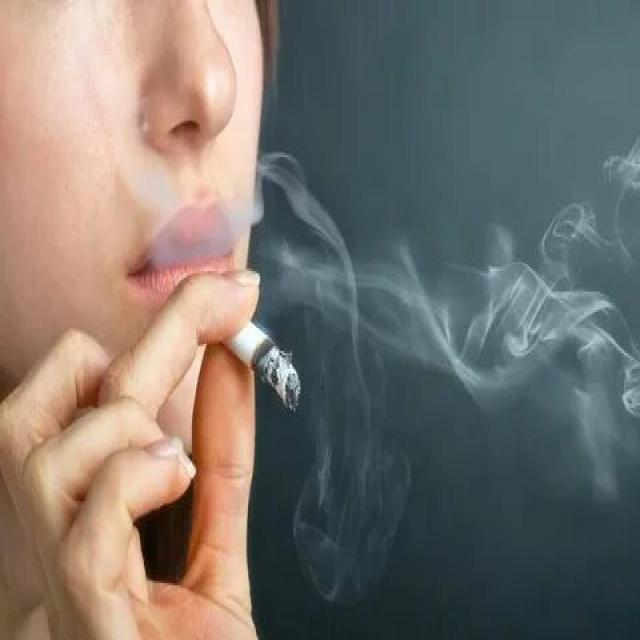cigarette: (216, 314, 311, 424)
